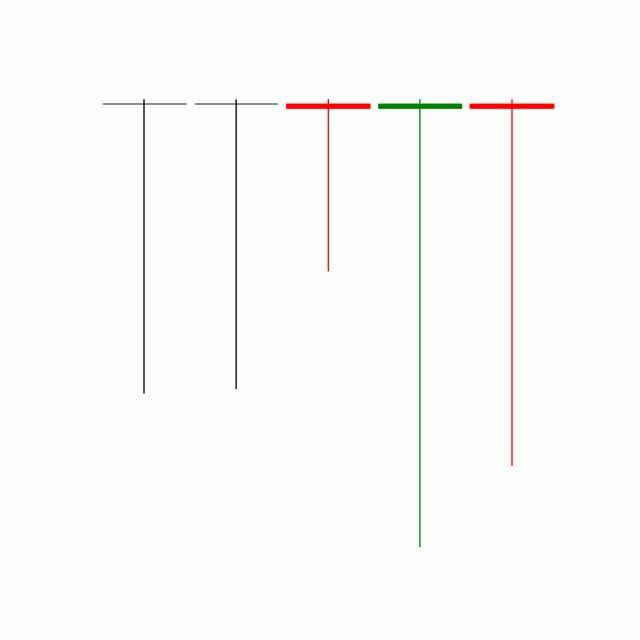Dragonfly Doji: (466, 96, 559, 471)
